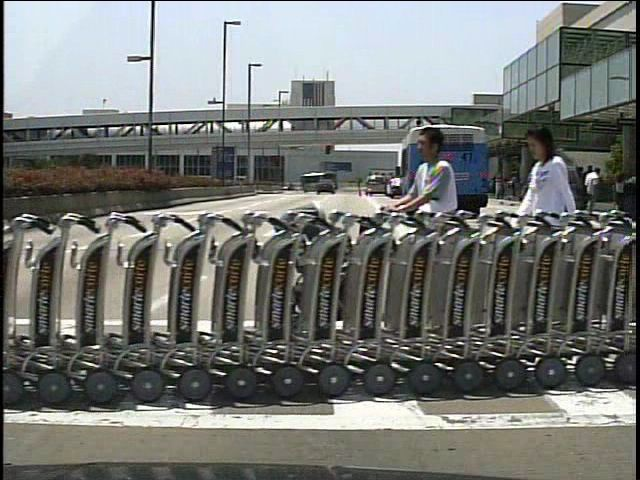person: (378, 121, 475, 365), (516, 116, 581, 328), (581, 163, 598, 214), (584, 165, 598, 215), (358, 176, 365, 196)
